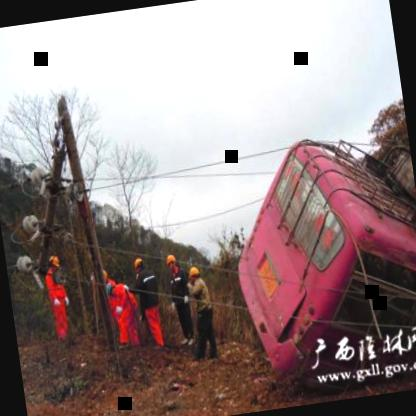helmet: (128, 252, 148, 280), (161, 248, 179, 276), (185, 262, 203, 284), (46, 252, 63, 275)
